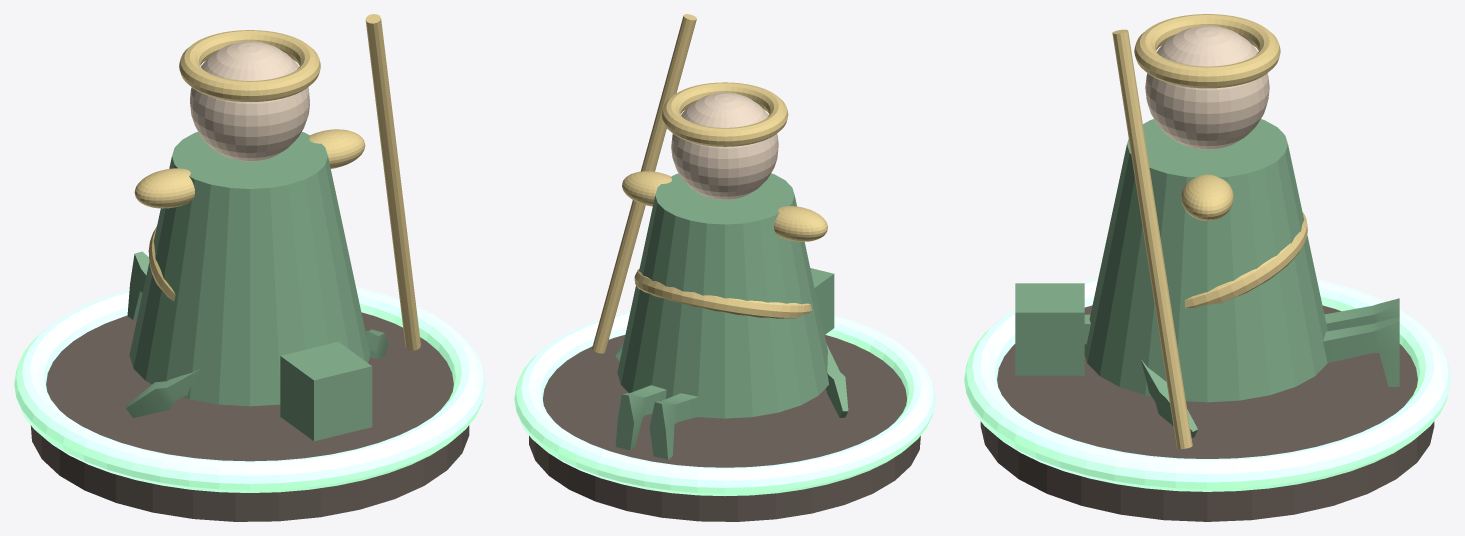
The model's file is unit_friday.glb.
The picture shows the model from 3 angles, left to right: view 1: azimuth 30°, elevation 25°; view 2: azimuth 150°, elevation 25°; view 3: azimuth 270°, elevation 25°; orthographic projection. The views are drawn at different scales.
Parts seen in each view (by area): view 1: Cone, Cylinder, Torus, Proxy, Sphere.002, Torus.002, Cylinder.001, Sphere, Sphere.001, Torus.001; view 2: Cone, Cylinder, Torus, Sphere.002, Proxy, Torus.002, Cylinder.001, Torus.001, Sphere, Sphere.001; view 3: Cone, Cylinder, Torus, Proxy, Sphere.002, Cylinder.001, Torus.002, Torus.001, Sphere.001.
Part boxes in pixels (x1,y1,x2,y2): Cone: (129,132,370,406); Cylinder: (30,312,469,521); Torus: (14,286,485,492); Proxy: (126,251,387,441); Sphere.002: (190,41,309,161); Torus.002: (179,30,320,101); Cylinder.001: (365,14,420,350); Sphere: (134,168,194,208); Sphere.001: (309,129,365,168); Torus.001: (148,226,175,301); Cone: (617,173,828,418); Cylinder: (529,335,920,521); Torus: (514,312,935,495); Sphere.002: (671,92,778,199); Proxy: (614,268,848,459); Torus.002: (661,82,788,146); Cylinder.001: (592,14,696,353); Torus.001: (634,269,811,318); Sphere: (774,206,827,241); Sphere.001: (622,171,671,206); Cone: (1084,119,1327,402); Cylinder: (980,305,1434,521); Torus: (964,279,1450,491); Proxy: (1015,283,1399,437); Sphere.002: (1145,25,1269,149); Cylinder.001: (1112,29,1192,449); Torus.002: (1134,14,1280,88); Torus.001: (1184,212,1307,307); Sphere.001: (1181,174,1233,220).
Size of the model in its own units: 1.33 by 1.32 by 1.33.
